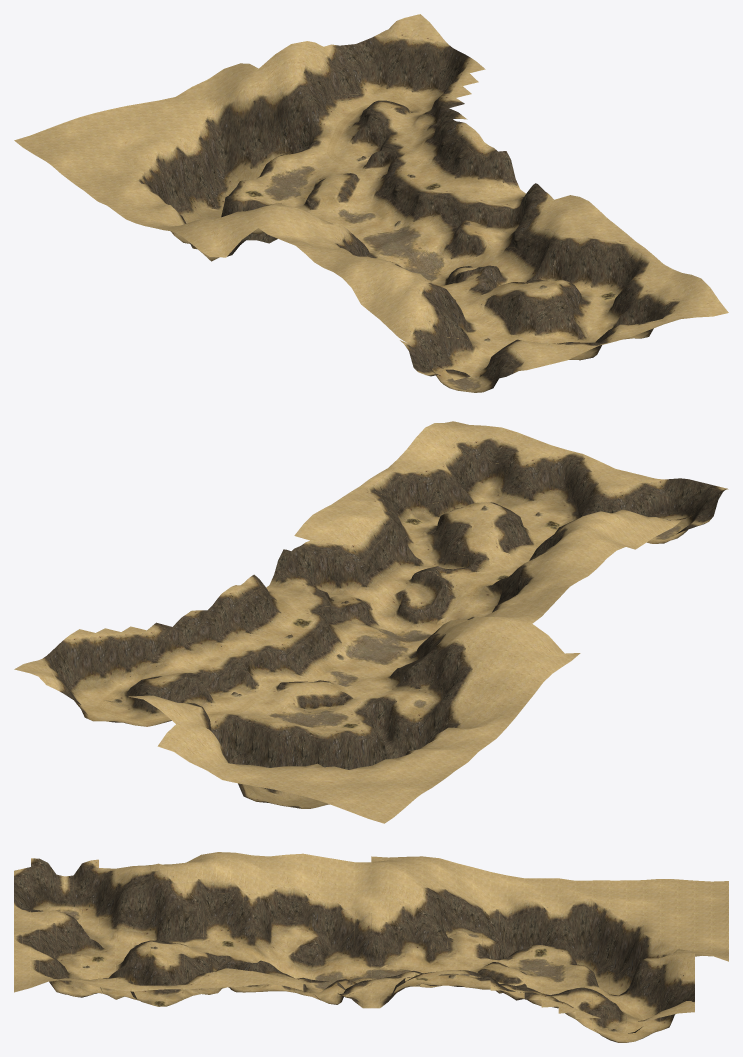
The model's file is Mis04_Zone01.glb.
The picture shows the model from 3 angles, top to bottom: view 1: azimuth 30°, elevation 25°; view 2: azimuth 150°, elevation 25°; view 3: azimuth 270°, elevation 25°; orthographic projection. The views are drawn at different scales.
Parts seen in each view (by area): view 1: MIS04_ZONE01686, MIS04_ZONE01731, MIS04_ZONE01685, MIS04_ZONE01709, MIS04_ZONE01708, MIS04_ZONE01680, MIS04_ZONE01718, MIS04_ZONE01188, MIS04_ZONE01732, MIS04_ZONE01678, MIS04_ZONE01741, MIS04_ZONE01707 (+2 smaller); view 2: MIS04_ZONE01637, MIS04_ZONE01610, MIS04_ZONE01500, MIS04_ZONE01636, MIS04_ZONE01307, MIS04_ZONE01138, MIS04_ZONE01635; view 3: MIS04_ZONE01653, MIS04_ZONE01162, MIS04_ZONE01628, MIS04_ZONE01195, MIS04_ZONE01407, MIS04_ZONE01604, MIS04_ZONE01537, MIS04_ZONE01212, MIS04_ZONE01313, MIS04_ZONE01279, MIS04_ZONE01603, MIS04_ZONE01179 (+58 smaller).
Part boxes in pixels (x1,y1,x2,y2): MIS04_ZONE01686: (285, 88, 312, 151); MIS04_ZONE01731: (220, 98, 244, 167); MIS04_ZONE01685: (270, 102, 299, 157); MIS04_ZONE01709: (261, 86, 287, 145); MIS04_ZONE01708: (245, 104, 270, 157); MIS04_ZONE01680: (190, 160, 214, 207); MIS04_ZONE01718: (407, 39, 432, 86); MIS04_ZONE01188: (578, 241, 603, 287); MIS04_ZONE01732: (236, 84, 260, 131); MIS04_ZONE01678: (158, 149, 182, 191); MIS04_ZONE01741: (381, 37, 406, 80); MIS04_ZONE01707: (229, 133, 254, 177); MIS04_ZONE01637: (224, 716, 248, 764); MIS04_ZONE01610: (281, 724, 306, 766); MIS04_ZONE01500: (394, 712, 417, 755); MIS04_ZONE01636: (239, 725, 263, 765); MIS04_ZONE01307: (317, 547, 342, 590); MIS04_ZONE01138: (394, 473, 419, 512); MIS04_ZONE01635: (258, 730, 280, 767); MIS04_ZONE01653: (609, 921, 626, 972); MIS04_ZONE01162: (167, 900, 184, 940); MIS04_ZONE01628: (592, 910, 609, 964); MIS04_ZONE01195: (201, 886, 218, 929); MIS04_ZONE01407: (398, 924, 430, 953); MIS04_ZONE01604: (575, 931, 592, 967); MIS04_ZONE01537: (524, 900, 541, 934); MIS04_ZONE01212: (218, 890, 235, 929); MIS04_ZONE01313: (320, 908, 337, 948); MIS04_ZONE01279: (286, 888, 303, 921); MIS04_ZONE01603: (575, 899, 592, 932); MIS04_ZONE01179: (184, 903, 202, 939).
Bounding box in the file's own units: 192 × 59.99 × 336.
28 materials, 28 textured.
